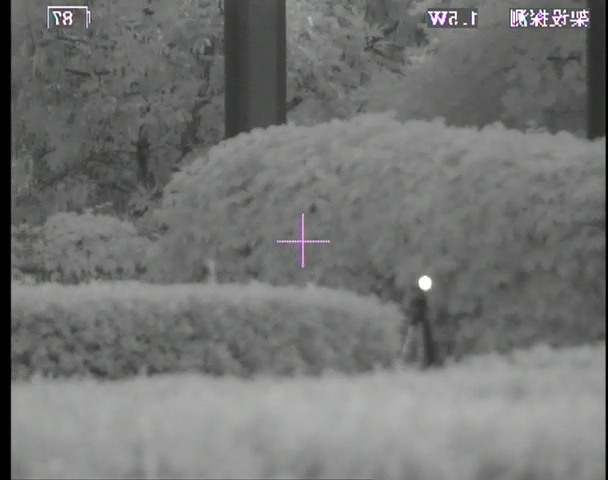my: (417, 275, 433, 292)
